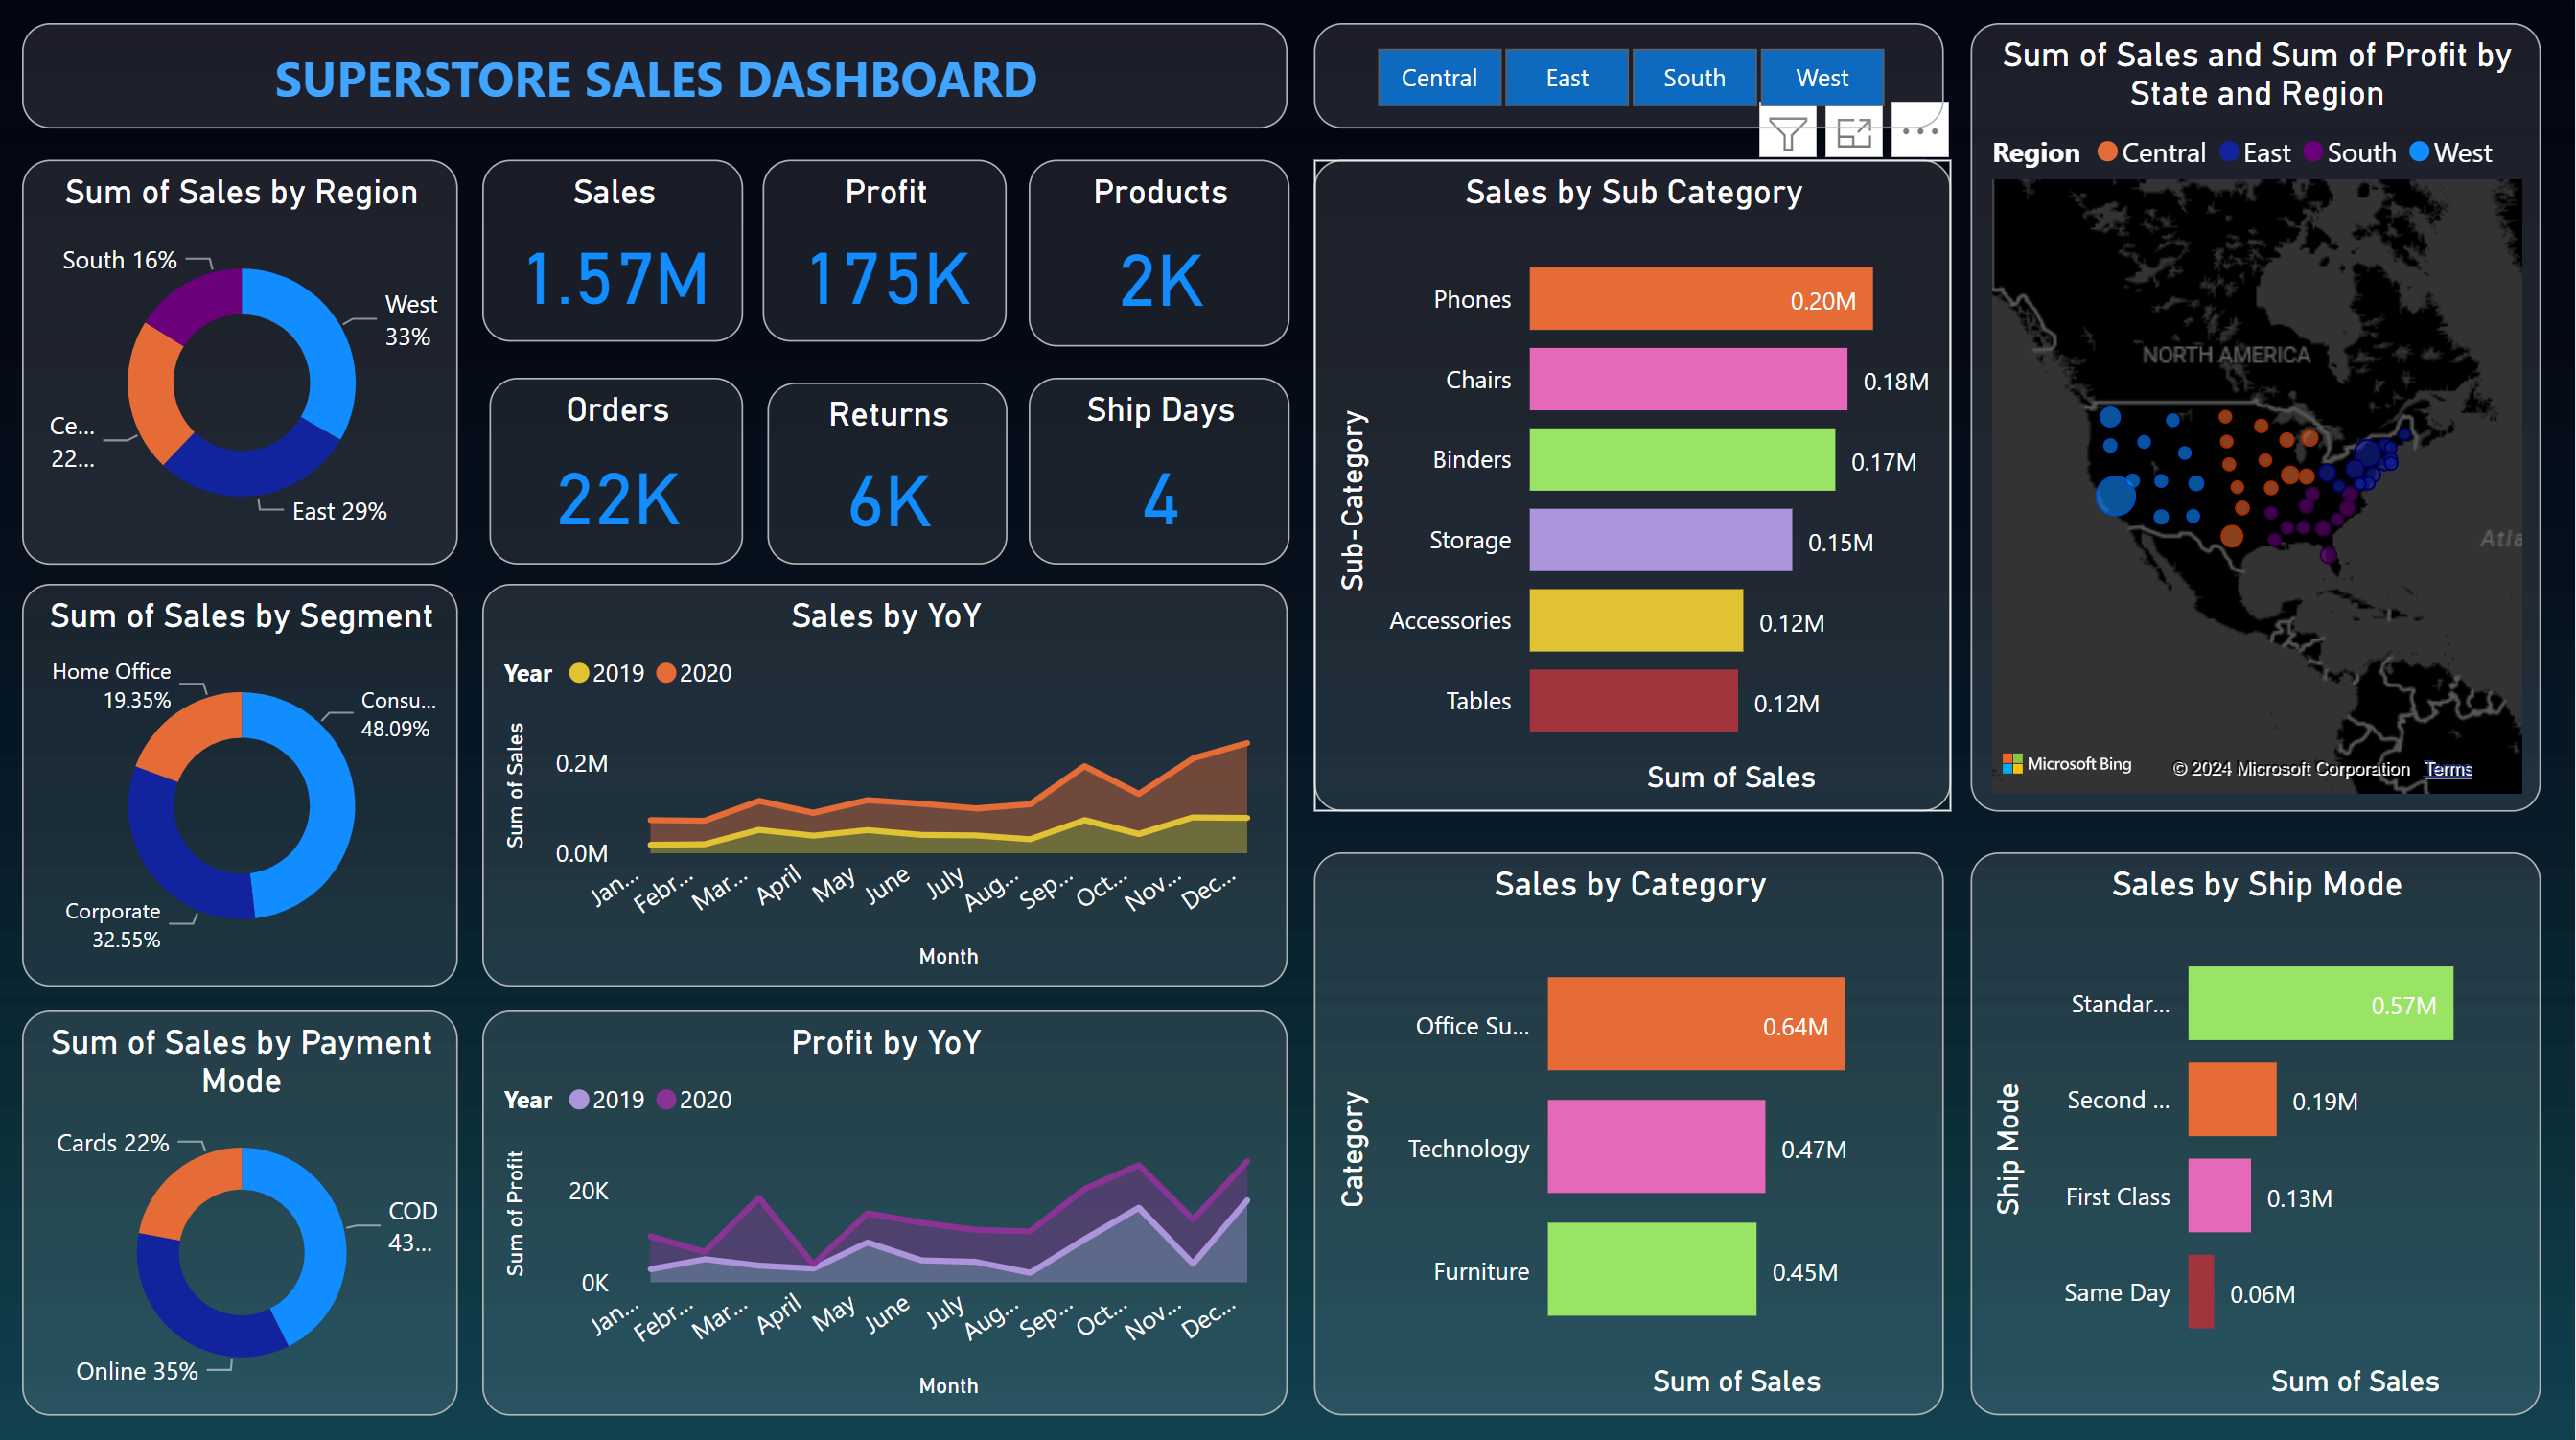

This screenshot's page, from the dashboard's own definition file:
{"tool":"powerbi","page":{"name":"Page 1","canvas":[1280,720],"ordinal":0},"visuals":[{"type":"clusteredBarChart","title":"Sales by Category","fields":{"Category":["SuperStore_Sales_Dataset.Category"],"Y":["Sum(SuperStore_Sales_Dataset.Sales)"]},"box":[653.4,426,313,279.7],"z":0},{"type":"clusteredBarChart","title":"Sales by Sub Category","fields":{"Y":["Sum(SuperStore_Sales_Dataset.Sales)"],"Category":["SuperStore_Sales_Dataset.Sub-Category"]},"box":[653.4,82.1,316.6,323.7],"z":1000},{"type":"clusteredBarChart","title":"Sales by Ship Mode","fields":{"Y":["Sum(SuperStore_Sales_Dataset.Sales)"],"Category":["SuperStore_Sales_Dataset.Ship Mode"]},"box":[979.4,426,283.2,279.7],"z":2000},{"type":"stackedAreaChart","title":"Sales by YoY","fields":{"Category":["SuperStore_Sales_Dataset.Order Date.Variation.Date Hierarchy.Month"],"Y":["Sum(SuperStore_Sales_Dataset.Sales)"],"Series":["SuperStore_Sales_Dataset.Order Date.Variation.Date Hierarchy.Year"]},"box":[240.4,292.8,399.9,199.9],"z":3000},{"type":"stackedAreaChart","title":"Profit by YoY","fields":{"Category":["SuperStore_Sales_Dataset.Order Date.Variation.Date Hierarchy.Month"],"Series":["SuperStore_Sales_Dataset.Order Date.Variation.Date Hierarchy.Year"],"Y":["Sum(SuperStore_Sales_Dataset.Profit)"]},"box":[240.4,504.6,399.9,201.1],"z":4000},{"type":"map","fields":{"Category":["SuperStore_Sales_Dataset.State"],"Series":["SuperStore_Sales_Dataset.Region"],"Size":["Sum(SuperStore_Sales_Dataset.Sales)"]},"box":[979.4,14.3,283.2,391.5],"z":5000},{"type":"donutChart","fields":{"Category":["SuperStore_Sales_Dataset.Segment"],"Y":["Sum(SuperStore_Sales_Dataset.Sales)"]},"box":[11.9,292.8,216.6,199.9],"z":6000},{"type":"donutChart","fields":{"Category":["SuperStore_Sales_Dataset.Payment Mode"],"Y":["Sum(SuperStore_Sales_Dataset.Sales)"]},"box":[11.9,504.6,216.6,201.1],"z":7000},{"type":"slicer","fields":{"Values":["SuperStore_Sales_Dataset.Region"]},"box":[653.4,14.3,313,52.4],"z":8000},{"type":"textbox","box":[11.9,14.3,628.4,52.4],"z":9000},{"type":"card","title":"Sales","fields":{"Values":["Sum(SuperStore_Sales_Dataset.Sales)"]},"box":[240.4,82.1,129.7,90.4],"z":10000},{"type":"card","title":"Orders","fields":{"Values":["Sum(SuperStore_Sales_Dataset.Quantity)"]},"box":[244,190.4,126.1,92.8],"z":11000},{"type":"card","title":"Ship Days","fields":{"Values":["Avg(SuperStore_Sales_Dataset.AverageDelivery)"]},"box":[511.7,190.4,129.7,92.8],"z":12000},{"type":"card","title":"Profit","fields":{"Values":["Sum(SuperStore_Sales_Dataset.Profit)"]},"box":[379.6,82.1,121.4,90.4],"z":13000},{"type":"donutChart","fields":{"Category":["SuperStore_Sales_Dataset.Region"],"Y":["Sum(SuperStore_Sales_Dataset.Sales)"]},"box":[11.9,82.1,216.6,201.1],"z":14000},{"type":"card","title":"Returns","fields":{"Values":["CountNonNull(SuperStore_Sales_Dataset.Returns)"]},"box":[382,192.8,119,90.4],"z":16001},{"type":"card","title":"Products","fields":{"Values":["Count(SuperStore_Sales_Dataset.Product ID)"]},"box":[511.7,82.1,129.7,92.8],"z":16002}]}

Visuals, with their boxes in screenshot pixels (x1, y1, x2, y2), scaled from the page's 1280x720 canvas onto the 2576x1440 screenshot:
"Sales by Category" clusteredBarChart: <box>1315,852,1945,1411</box>
"Sales by Sub Category" clusteredBarChart: <box>1315,164,1952,812</box>
"Sales by Ship Mode" clusteredBarChart: <box>1971,852,2541,1411</box>
"Sales by YoY" stackedAreaChart: <box>484,586,1288,986</box>
"Profit by YoY" stackedAreaChart: <box>484,1010,1288,1411</box>
map - SuperStore_Sales_Dataset.State x SuperStore_Sales_Dataset.Region: <box>1971,29,2541,812</box>
donutChart - SuperStore_Sales_Dataset.Segment x Sum(SuperStore_Sales_Dataset.Sales): <box>24,586,460,986</box>
donutChart - SuperStore_Sales_Dataset.Payment Mode x Sum(SuperStore_Sales_Dataset.Sales): <box>24,1010,460,1411</box>
slicer - SuperStore_Sales_Dataset.Region: <box>1315,29,1945,133</box>
textbox: <box>24,29,1288,133</box>
"Sales" card: <box>484,164,745,345</box>
"Orders" card: <box>491,381,745,567</box>
"Ship Days" card: <box>1030,381,1290,567</box>
"Profit" card: <box>764,164,1009,345</box>
donutChart - SuperStore_Sales_Dataset.Region x Sum(SuperStore_Sales_Dataset.Sales): <box>24,164,460,567</box>
"Returns" card: <box>769,385,1009,567</box>
"Products" card: <box>1030,164,1290,350</box>
